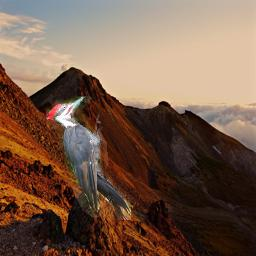Woodpecker: (46, 96, 131, 220)
